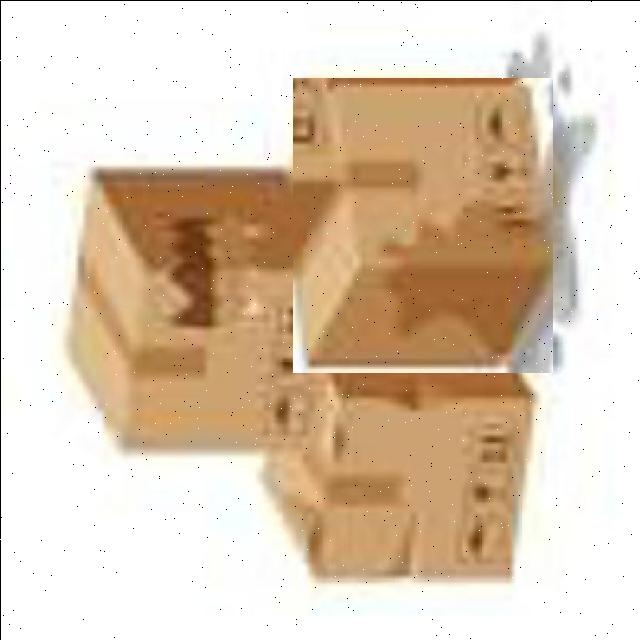defect: (66, 163, 332, 452), (292, 77, 552, 372), (256, 349, 538, 585)
